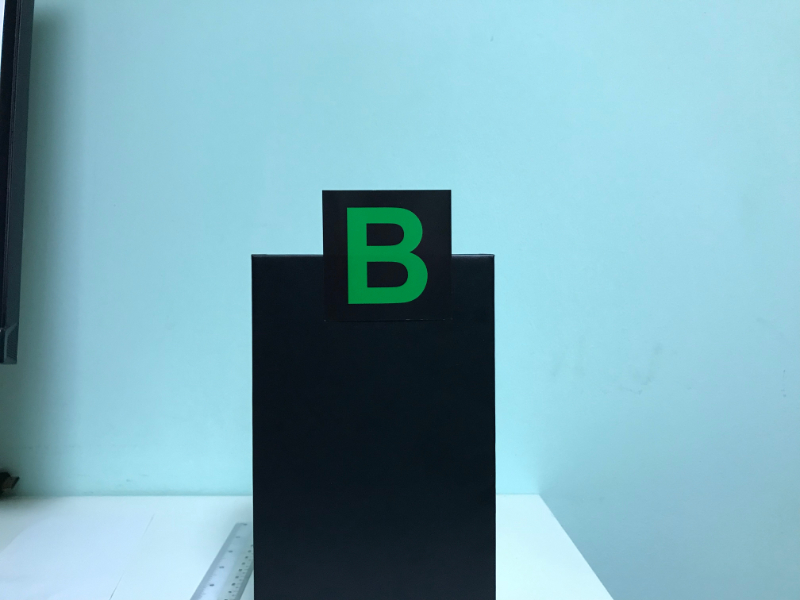B-12: (323, 192, 452, 318)
